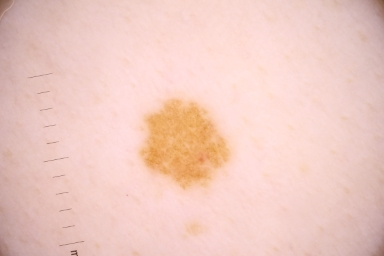nevus: (141, 101, 227, 185)
